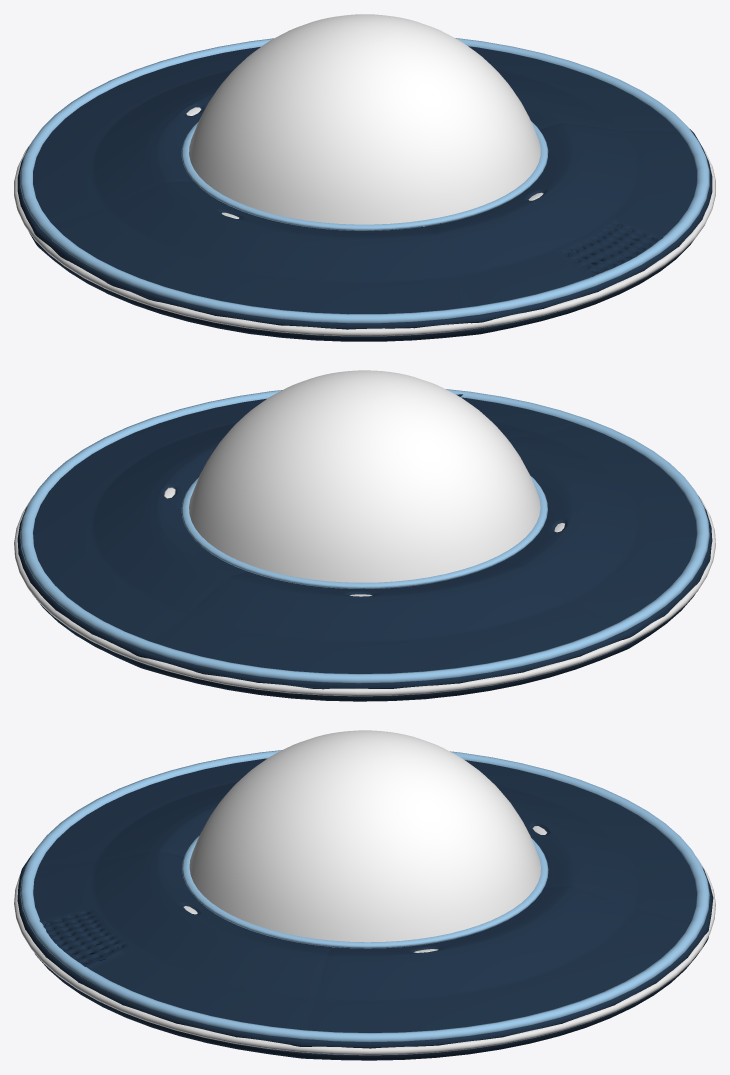
Rendered from Ufo.fbx.
3 renders of one model, top to bottom at view 1: azimuth 30°, elevation 25°; view 2: azimuth 150°, elevation 25°; view 3: azimuth 270°, elevation 25°, orthographic.
Visible parts, largest first — view 1: ufo; view 2: ufo; view 3: ufo.
Part boxes in pixels (left/top/right/bottom): ufo: left=14, top=14, right=715, bottom=341; ufo: left=14, top=370, right=715, bottom=701; ufo: left=14, top=730, right=715, bottom=1060.
Size of the model in its own units: 1398 by 1398 by 475.
